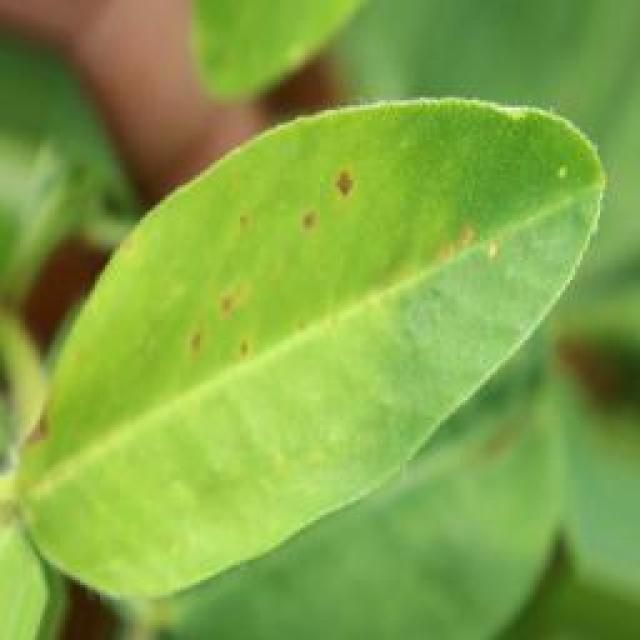Sigatoka: (429, 199, 532, 319), (180, 289, 284, 405), (258, 172, 368, 237), (0, 381, 90, 452)
